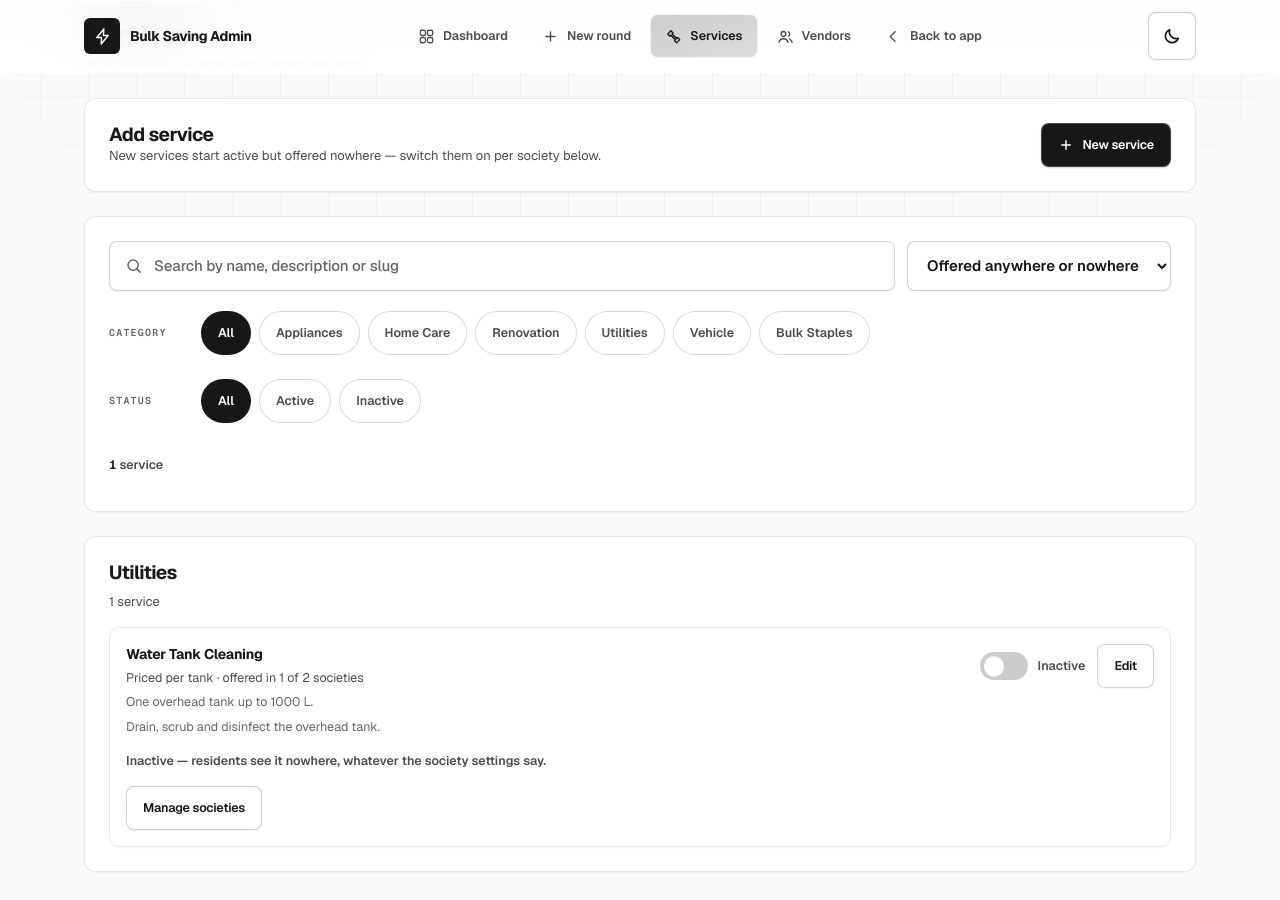
AdminServicesPage › cannot newly offer an inactive service — residents would never see it
(page scrolled)
Click the button "Manage societies".
click(194, 808)  # box [126,786,262,830]
(page scrolled)
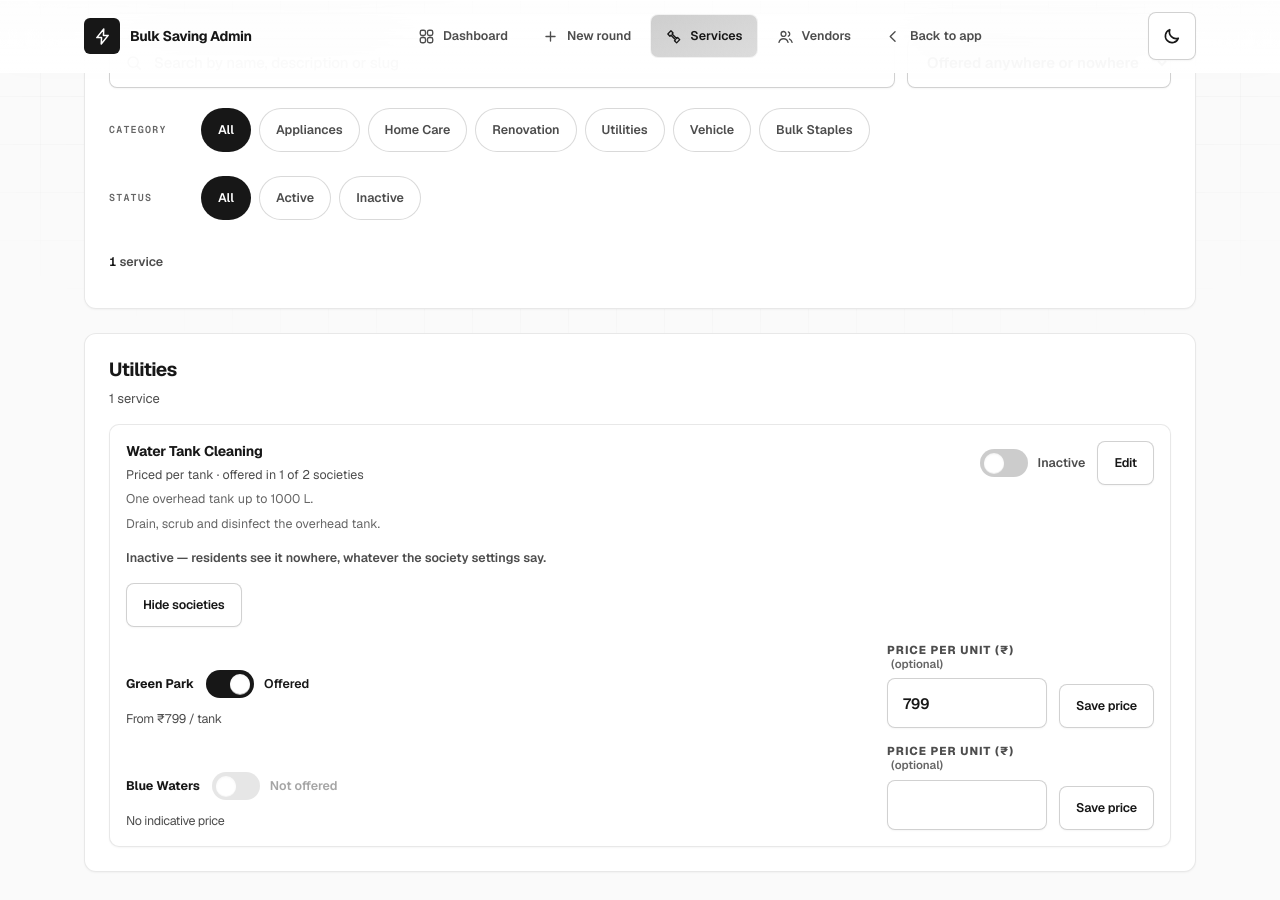
Check: the switch named "Offer " is disabled, box [212,764,338,808]
Check: the switch named "Offer " is enabled, box [206,662,309,706]
